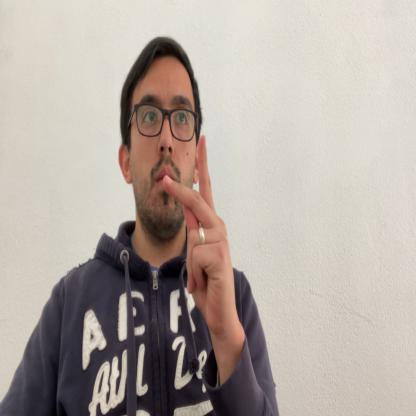P: (162, 135, 236, 352)
